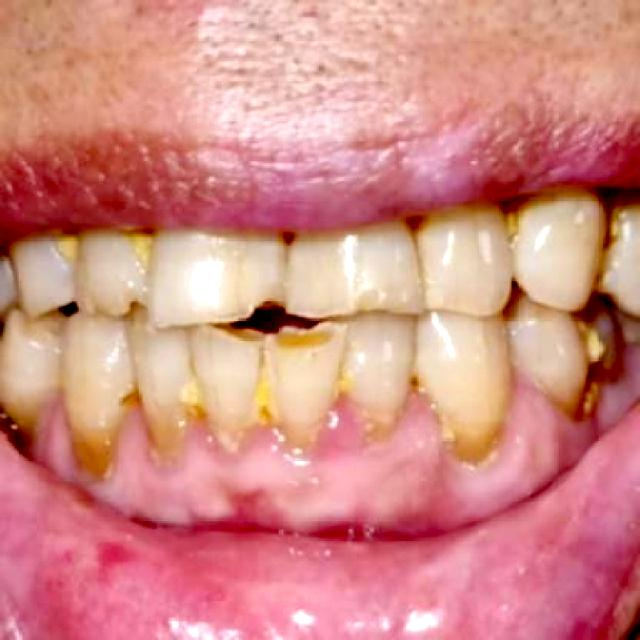Plaque: (28, 336, 639, 503)
